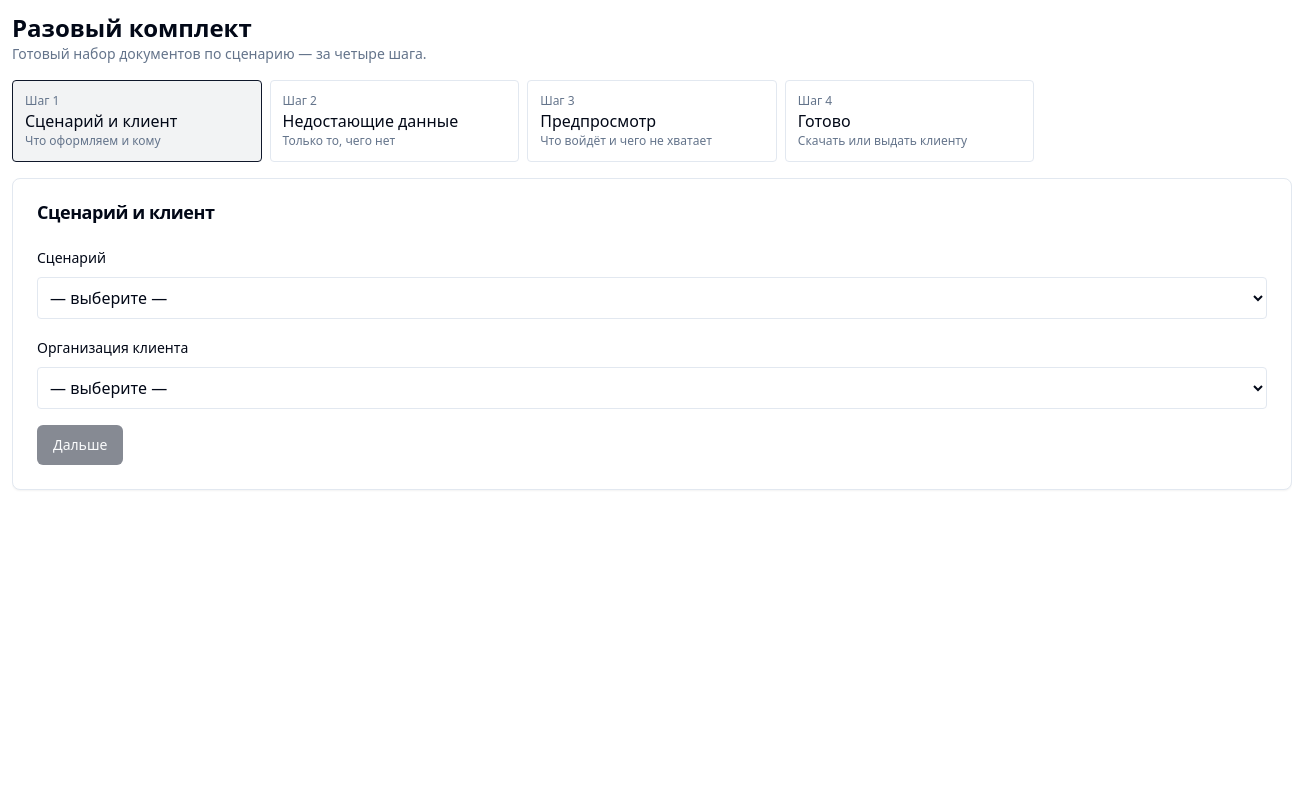
Test case: мастер разового комплекта › спрашивает только недостающее и называет то, что подставится само
The image size is (1292, 812).
Step 1. Select "Охрана труда · Приём нового сотрудника" in the dropdown labelled "Сценарий" → (652, 298), box [37,277,1267,319]
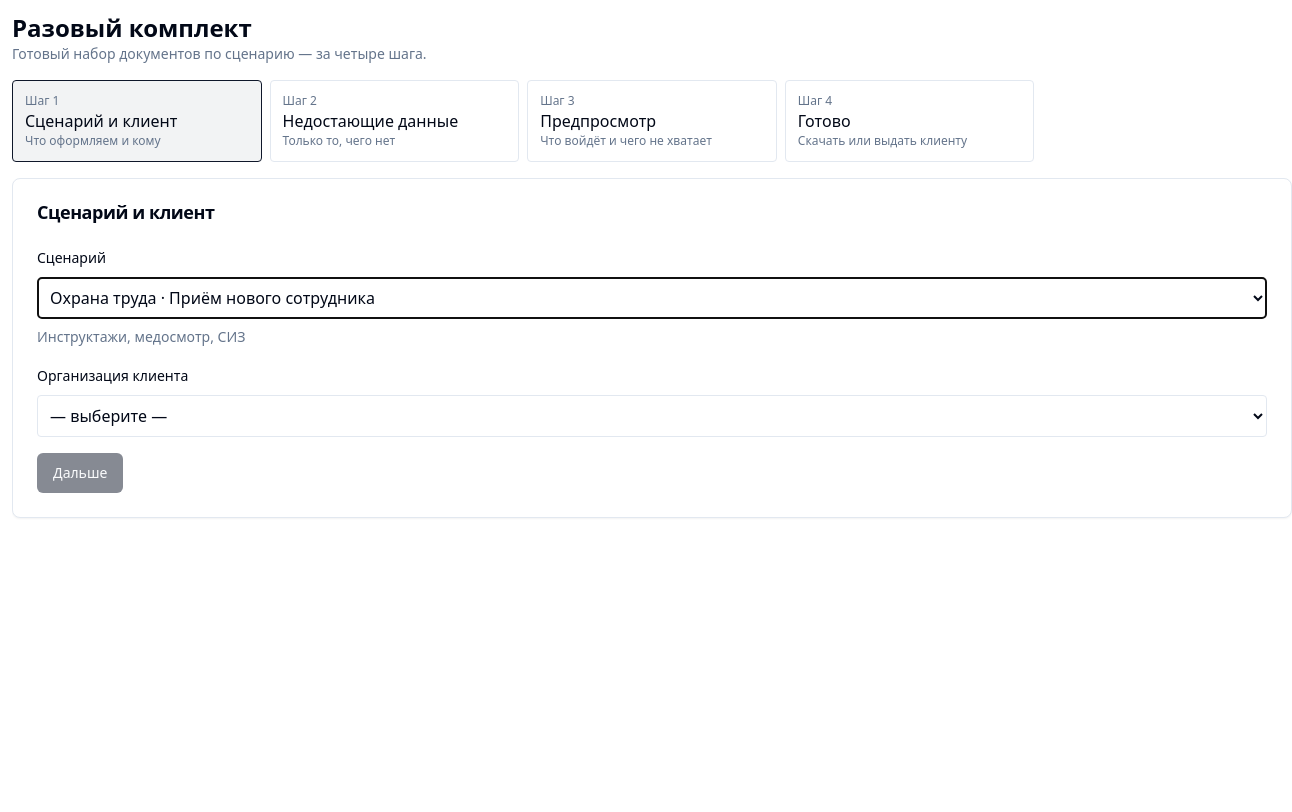
Step 2. Select "ООО Ромашка" in the dropdown labelled "Организация клиента" → (652, 416), box [37,395,1267,437]
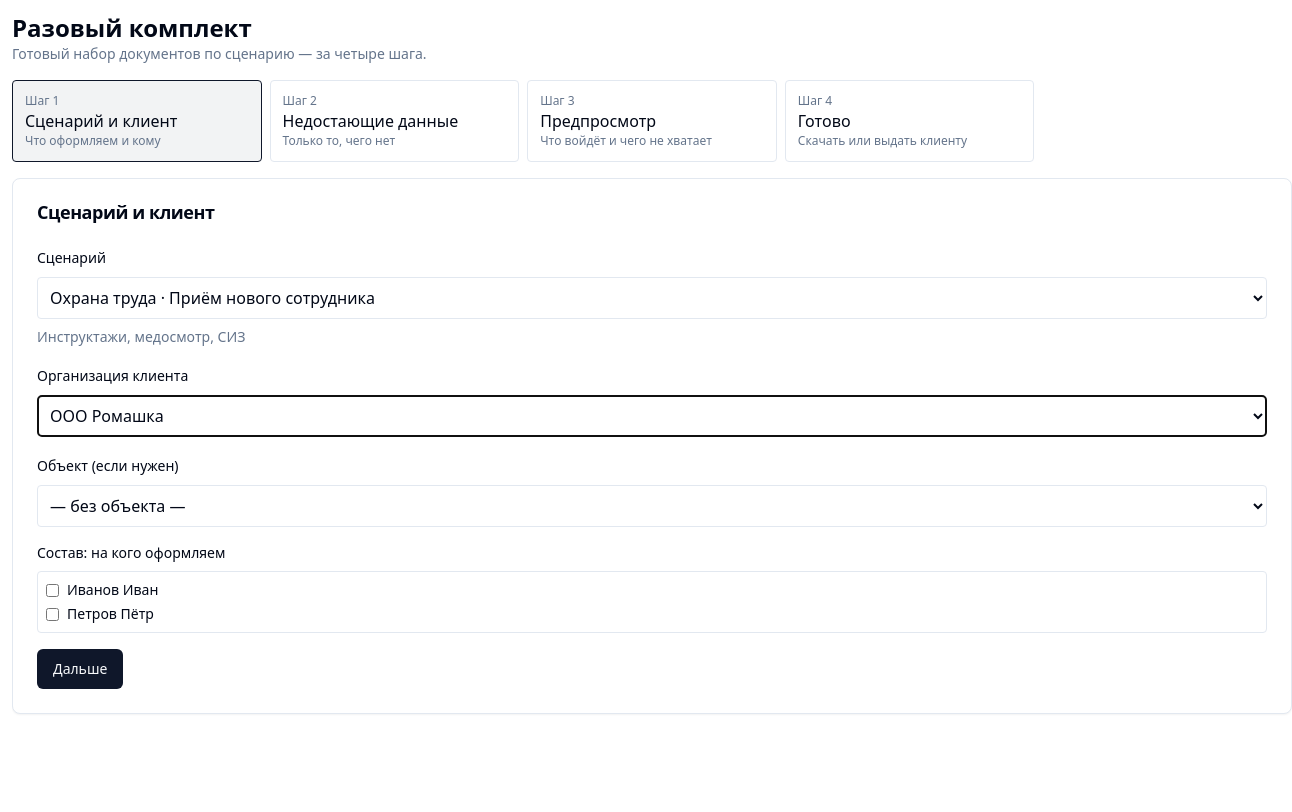
Step 3. Click the button "Дальше" → (80, 669), box [37,649,123,689]
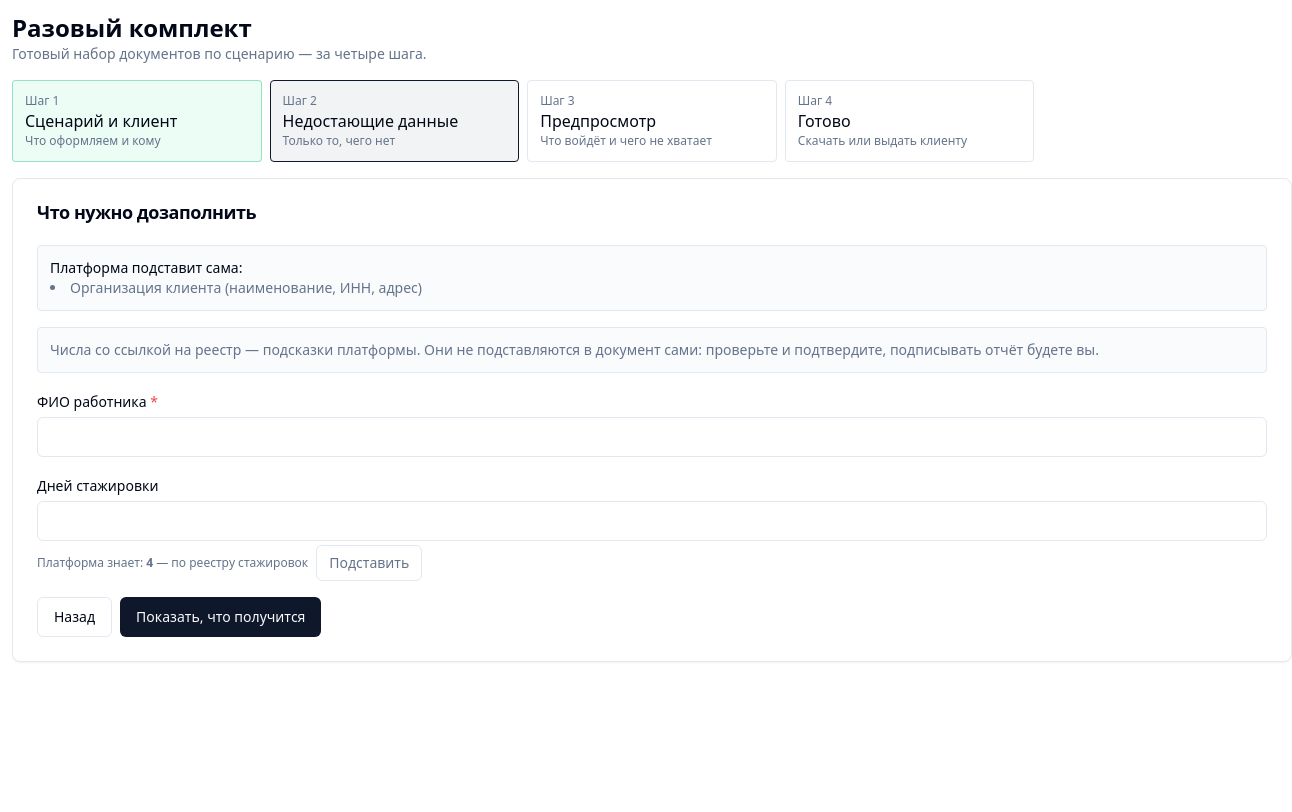
Expected: the field labelled "ФИО работника *" is shown, [37,417,1267,457]
Expected: the text "Платформа подставит сама:" is shown, [50,258,242,277]
Expected: the list item "Организация клиента (наименование, ИНН, адрес)" is shown, [70,278,422,297]
